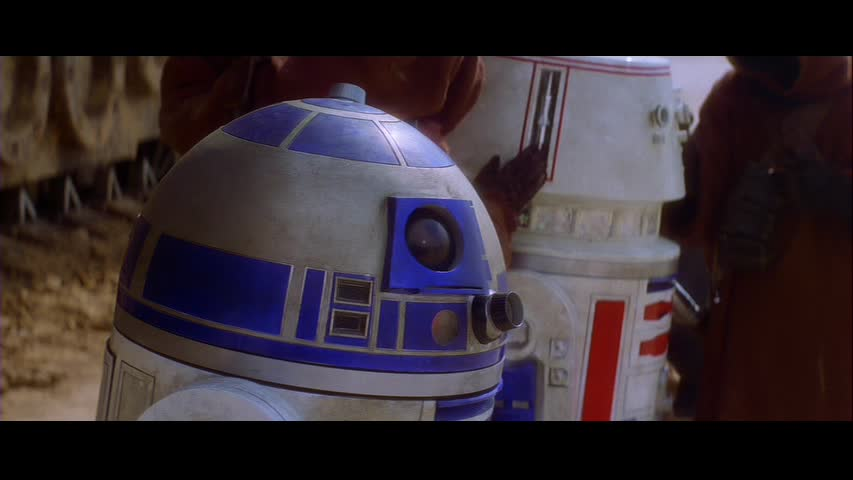r2d2: (96, 86, 525, 419)
